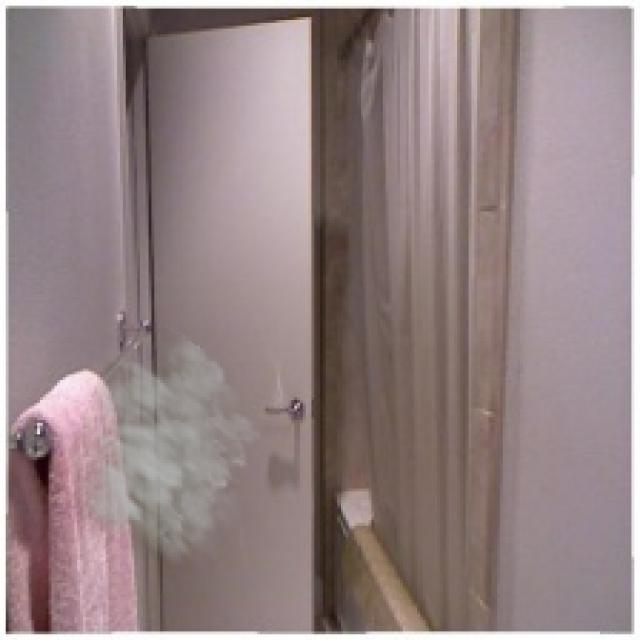smoke: (51, 323, 263, 574)
